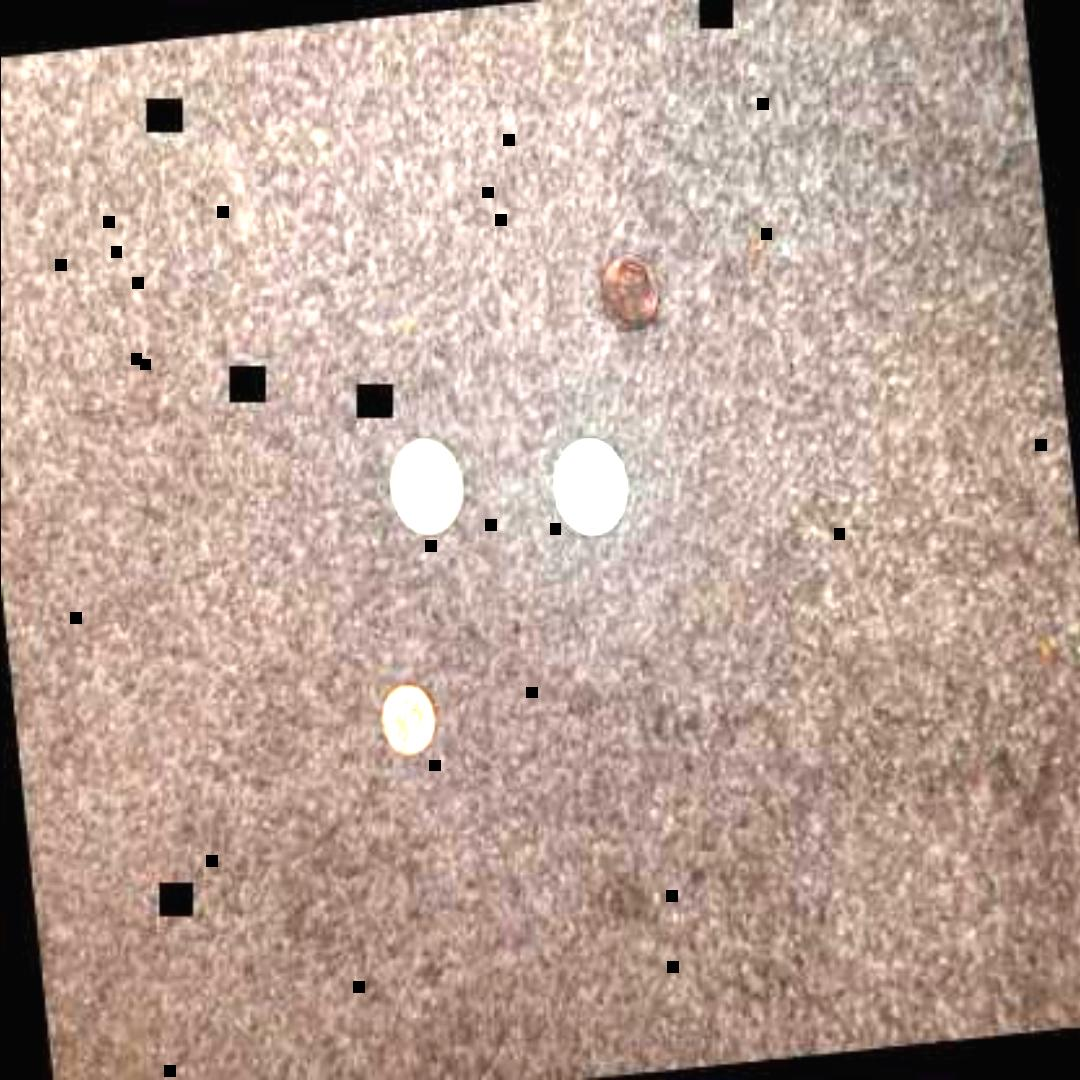Dime: (381, 675, 445, 758)
Penny: (598, 241, 672, 337)
Quarter: (548, 420, 644, 546), (384, 426, 472, 538)
